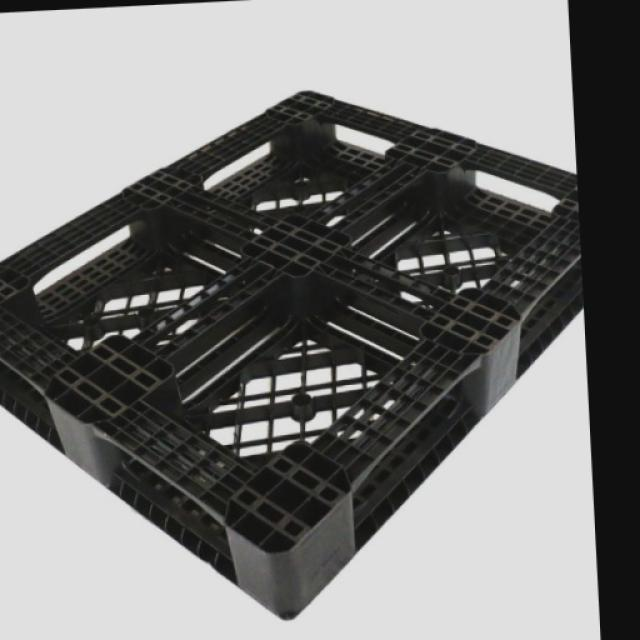non-igps: (0, 82, 589, 627)
